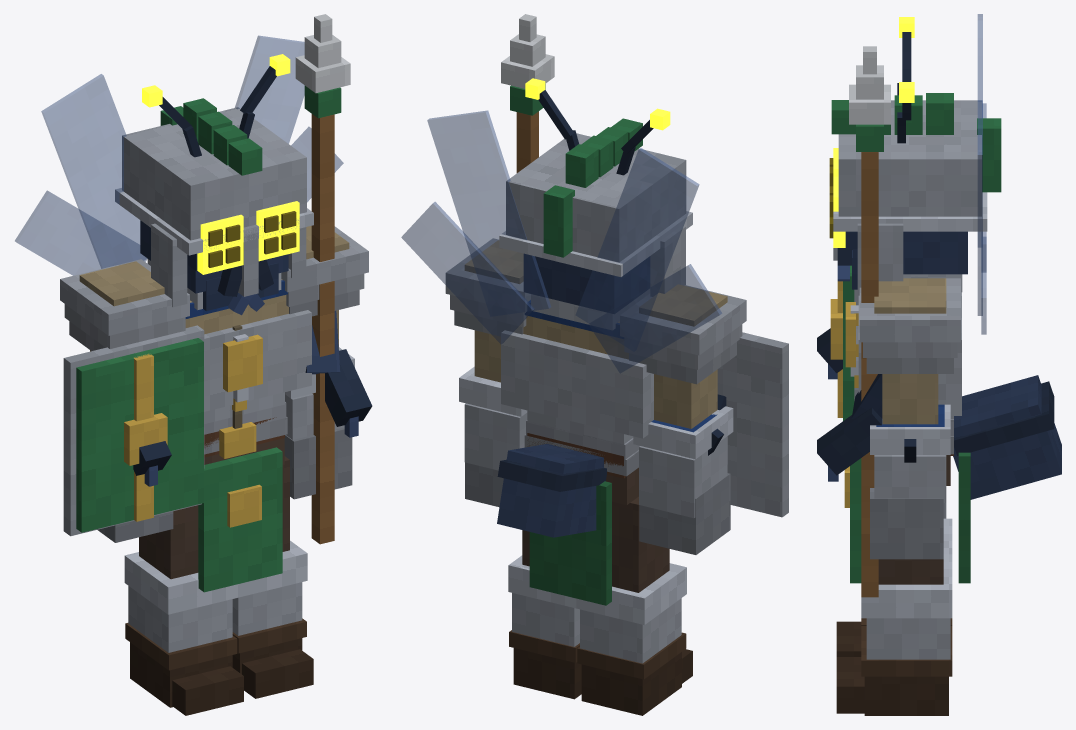
Rendered from insectoid_garde_v3.glb.
3 renders of one model, left to right at view 1: azimuth 30°, elevation 25°; view 2: azimuth 150°, elevation 25°; view 3: azimuth 270°, elevation 25°, orthographic. The views are drawn at different scales.
Visible parts, largest first — view 1: Torso, ArmR, Head, LegR, HandL, LegL, ArmL; view 2: Torso, ArmR, Head, LegR, ArmL, LegL, HandL; view 3: Head, ArmL, Torso, LegL, HandL, ArmR, LegR.
Boxes of the visible parts, bbox=[...] form: Torso: bbox=[15, 35, 372, 592]; ArmR: bbox=[60, 259, 204, 542]; Head: bbox=[115, 54, 313, 315]; LegR: bbox=[124, 505, 243, 715]; HandL: bbox=[295, 14, 350, 544]; LegL: bbox=[232, 456, 313, 698]; ArmL: bbox=[281, 226, 368, 499]; Torso: bbox=[401, 110, 726, 605]; ArmR: bbox=[620, 284, 788, 554]; Head: bbox=[499, 78, 692, 329]; LegR: bbox=[576, 496, 692, 715]; ArmL: bbox=[445, 238, 530, 506]; LegL: bbox=[508, 530, 581, 699]; HandL: bbox=[501, 14, 554, 172]; Head: bbox=[829, 17, 1001, 295]; ArmL: bbox=[859, 278, 960, 559]; Torso: bbox=[817, 14, 1061, 583]; LegL: bbox=[836, 554, 952, 715]; HandL: bbox=[849, 46, 890, 597]; ArmR: bbox=[830, 265, 858, 420]; LegR: bbox=[836, 518, 952, 656].
Bounding box in the file's own units: 1.15 × 2.14 × 0.699.
40 materials, 40 textured.
